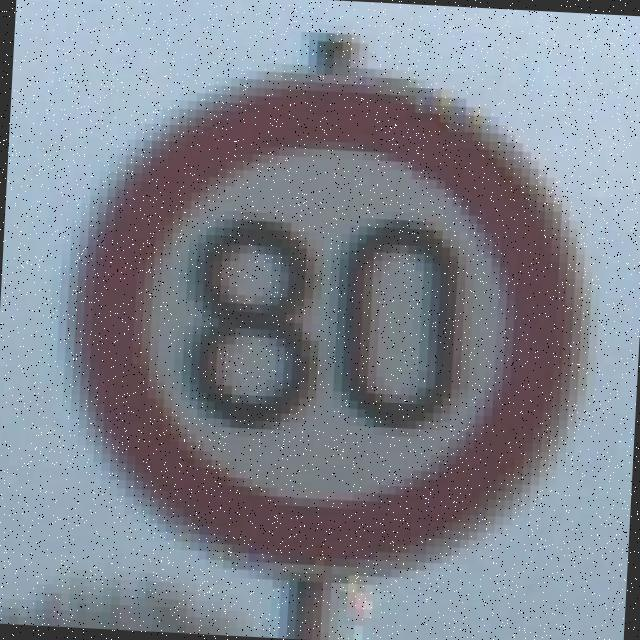Ograniczenie predkosci do 80: (72, 70, 588, 580)
